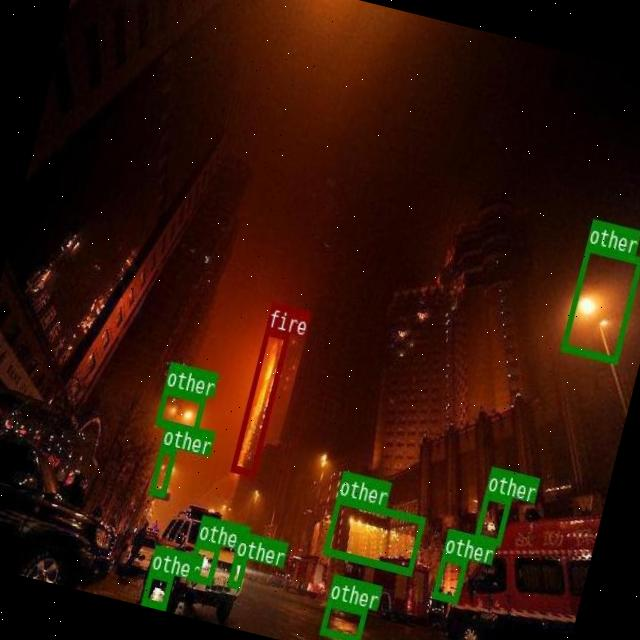fire: (229, 326, 289, 476)
